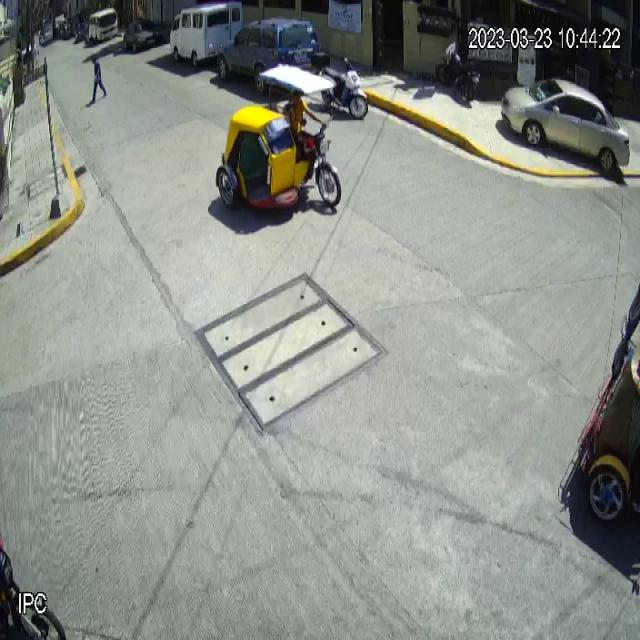Car: (501, 78, 630, 171), (216, 16, 323, 96)
Motorcycle: (312, 54, 368, 120)
Tricycle: (217, 65, 343, 217)
Van: (169, 0, 242, 69)
